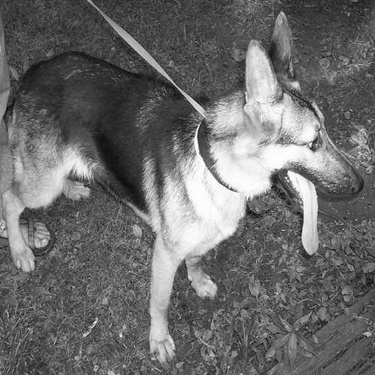dog: (5, 10, 370, 364)
